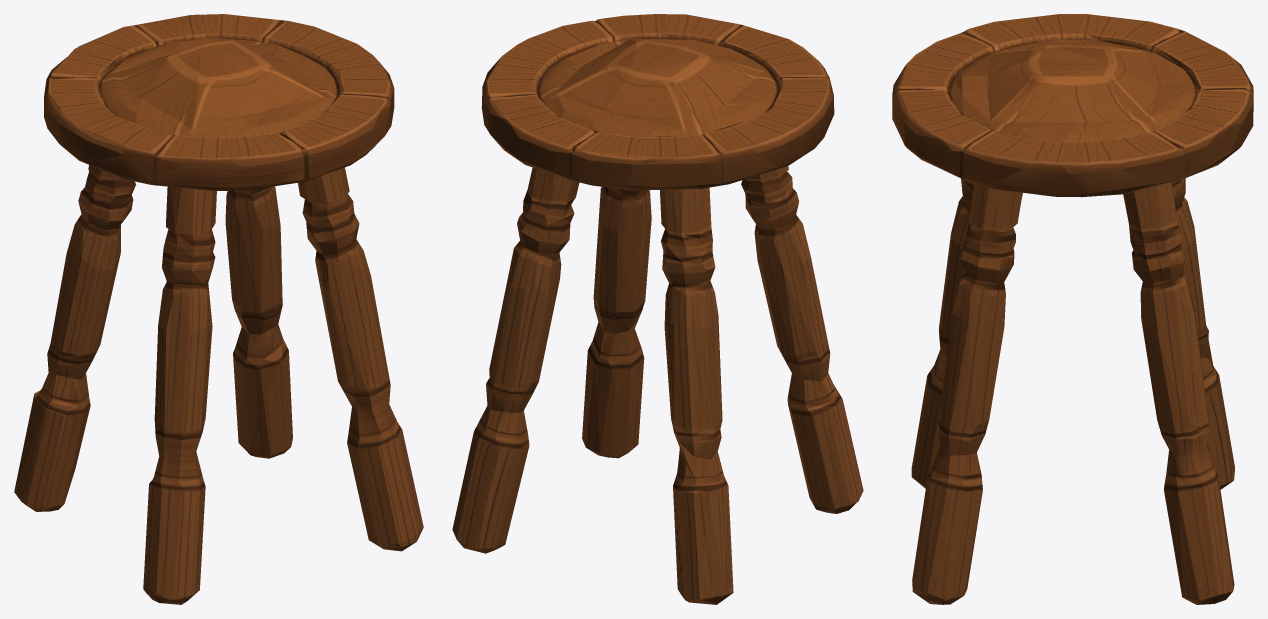
Rendered from stool.hq.glb.
3 renders of one model, left to right at view 1: azimuth 30°, elevation 25°; view 2: azimuth 150°, elevation 25°; view 3: azimuth 270°, elevation 25°, orthographic. The views are drawn at different scales.
Visible parts, largest first — view 1: output_unwrapped; view 2: output_unwrapped; view 3: output_unwrapped.
Boxes of the visible parts, left/top/right/bottom form: output_unwrapped: left=14, top=14, right=423, bottom=604; output_unwrapped: left=452, top=14, right=863, bottom=604; output_unwrapped: left=892, top=14, right=1253, bottom=604.
Bounding box in the file's own units: 1.29 × 1.89 × 1.28.
Materials: 1 (1 with a texture image).
